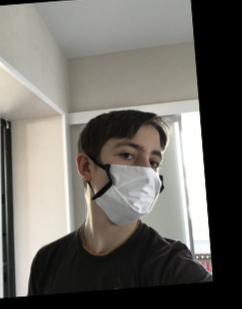with_mask: (91, 138, 164, 225)
